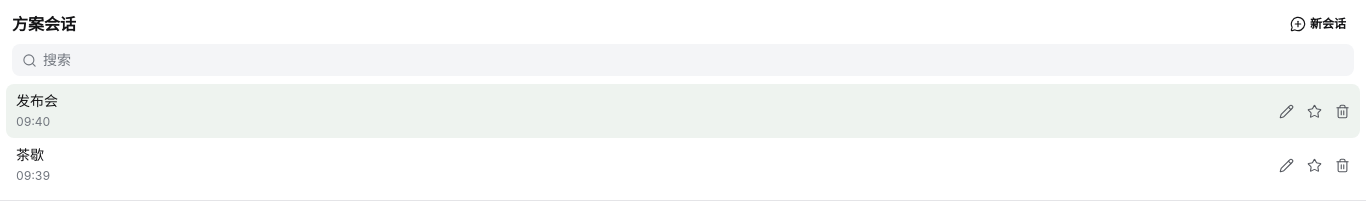
Test: session history panel › renames in place and restores the previous title on Escape
The width and height of the screenshot is (1366, 218).
Click the button named "改名 发布会": click(1286, 111) x1=1272 y1=97 x2=1300 y2=125
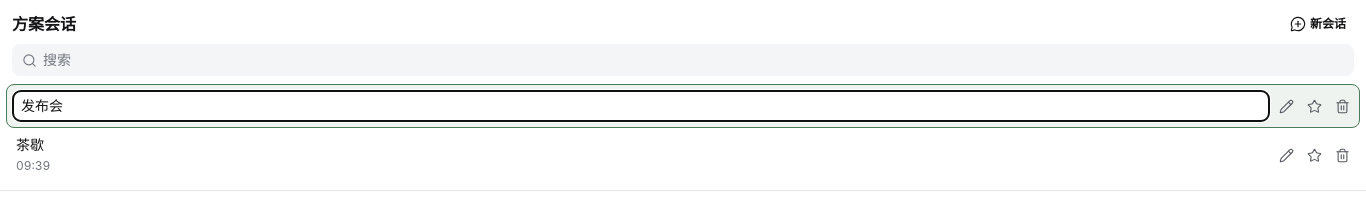
Replace the text in the field named "会话名称" with "客户发布会": (641, 106) x1=12 y1=90 x2=1270 y2=122
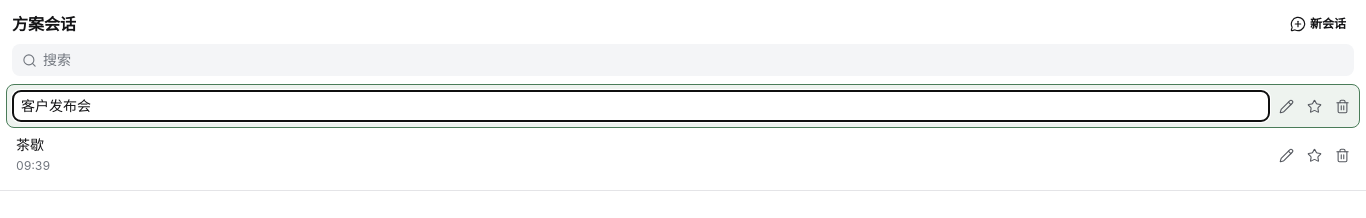
Press Enter in the field named "会话名称", box x1=12 y1=90 x2=1270 y2=122
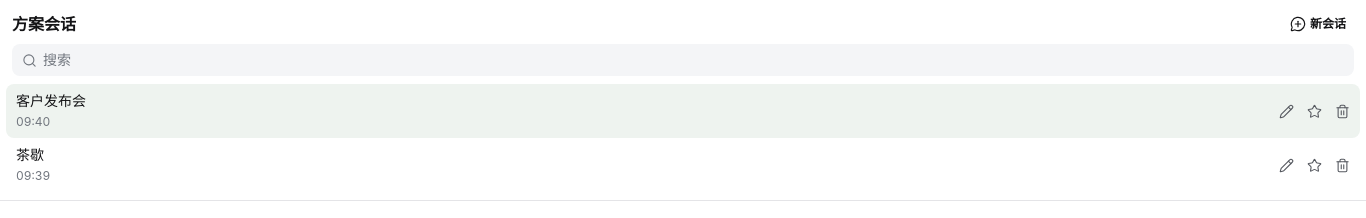
Check: the button "客户发布会 09:40" is shown, box x1=12 y1=88 x2=1270 y2=134
Click the button named "改名 茶歇": click(1286, 165) x1=1272 y1=151 x2=1300 y2=179
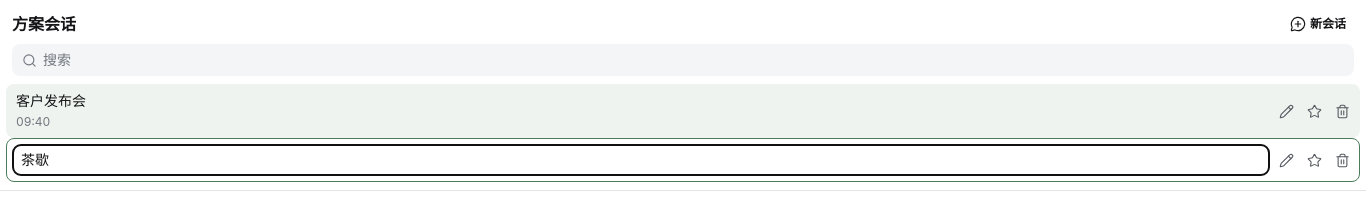
Replace the text in the field named "会话名称" with "不保存": (641, 160) x1=12 y1=144 x2=1270 y2=176
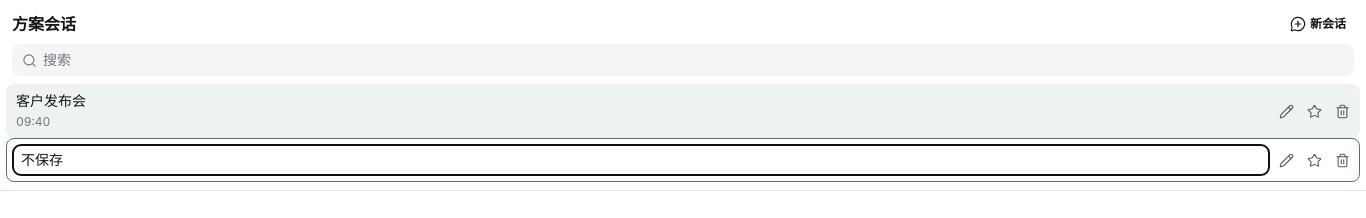
Press Escape in the field named "会话名称", box x1=12 y1=144 x2=1270 y2=176
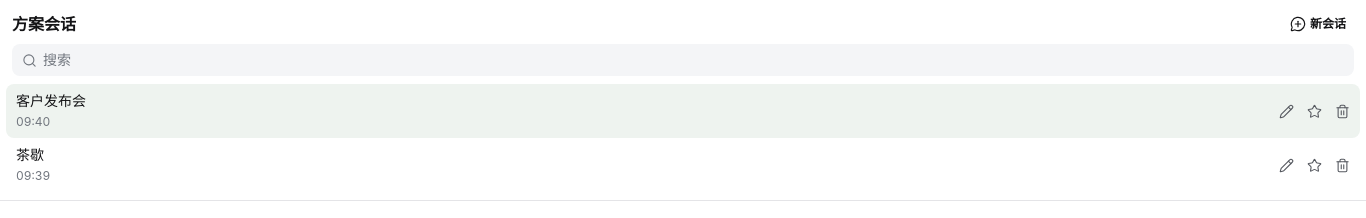
Check: the button "不保存" is not shown
Check: the button "茶歇 09:39" is shown, box x1=12 y1=142 x2=1270 y2=188
